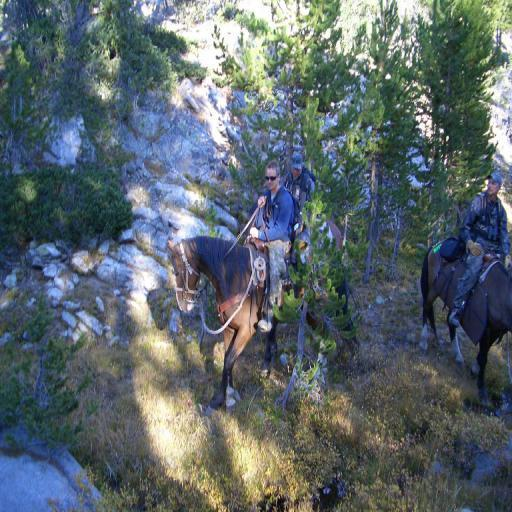horse: (164, 239, 364, 418), (419, 236, 512, 404), (289, 214, 344, 333)
